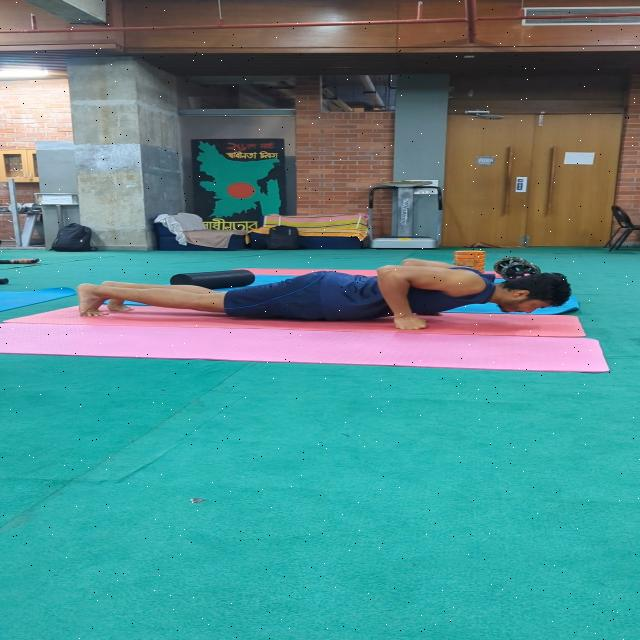Normal_PushUps: (53, 264, 581, 348)
